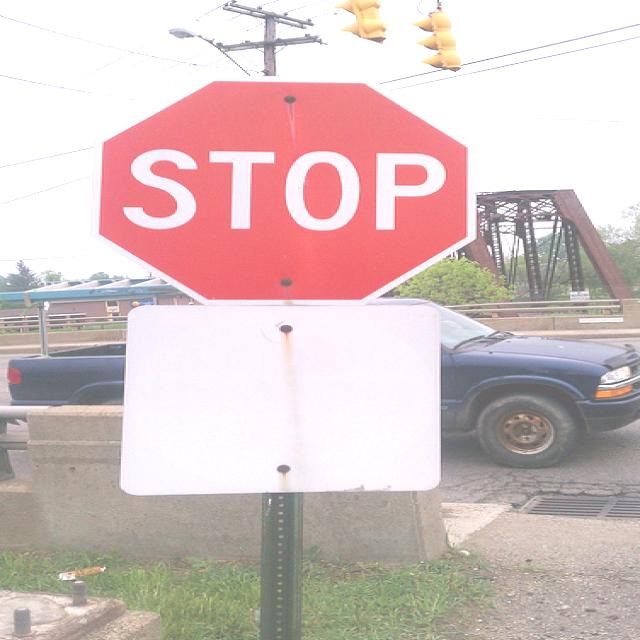Vehicle: (383, 298, 640, 461)
